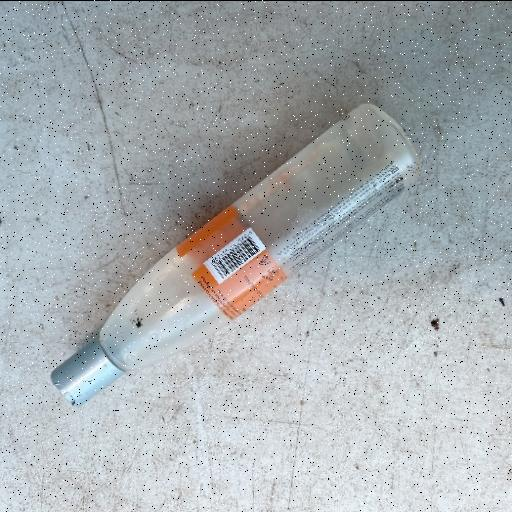Plastic: (48, 100, 423, 410)
